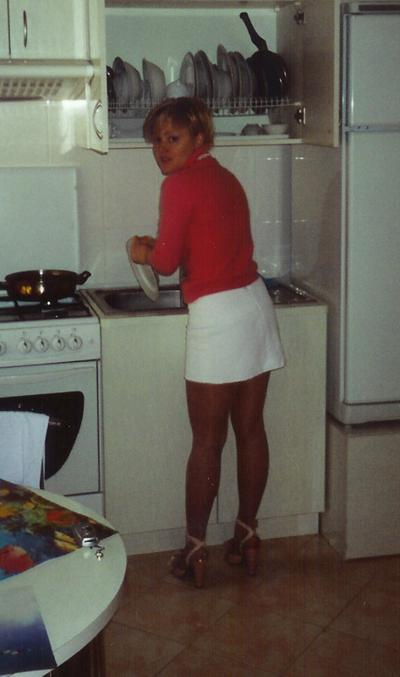person: (130, 92, 287, 593)
